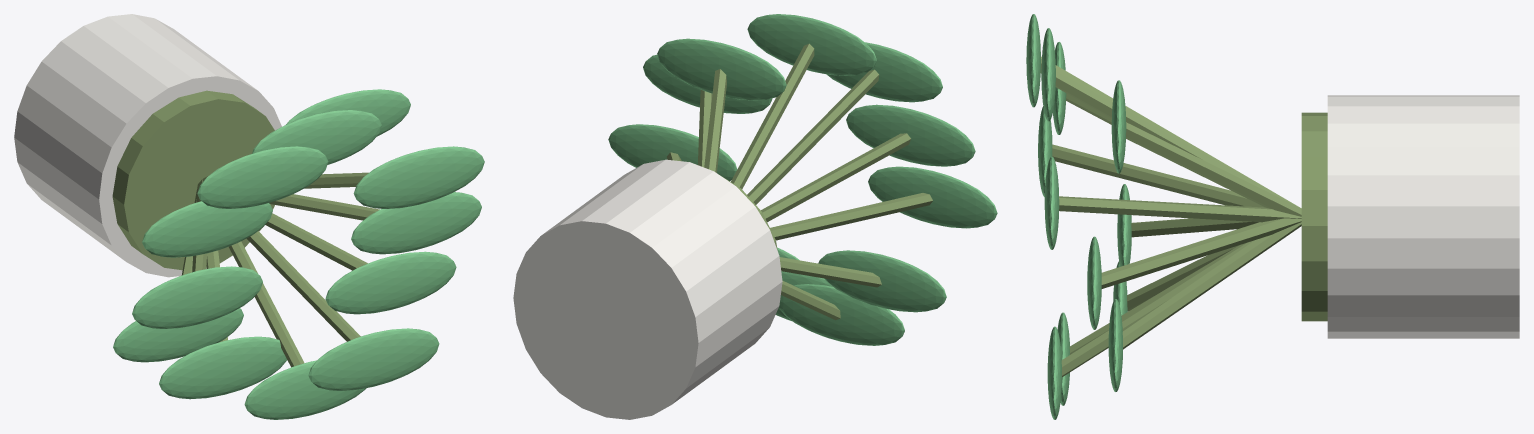
File: PLANT_MEDIUM_001.glb
3 views of the same model, side by side, from view 1: azimuth 30°, elevation 25°; view 2: azimuth 150°, elevation 25°; view 3: azimuth 270°, elevation 25° (orthographic). The views are drawn at different scales.
Parts seen in each view (by area): view 1: pot_000, soil_001, leaf_011, leaf_005, leaf_015, leaf_023, leaf_025, leaf_019, leaf_003, leaf_013, leaf_009, leaf_021 (+7 smaller); view 2: pot_000, leaf_007, leaf_009, leaf_013, leaf_015, leaf_017, leaf_019, leaf_003, leaf_011, stem_010, stem_012, stem_014 (+7 smaller); view 3: pot_000, soil_001, stem_004, stem_014, stem_002, stem_024, stem_006, stem_008, stem_022, stem_016, stem_018, leaf_009 (+12 smaller).
Boxes of the visible parts, x1,y1,x2,y2 form: pot_000: [14, 14, 281, 277]; soil_001: [112, 90, 274, 270]; leaf_011: [197, 146, 328, 208]; leaf_005: [353, 146, 484, 208]; leaf_015: [132, 266, 262, 328]; leaf_023: [308, 328, 439, 390]; leaf_025: [325, 251, 456, 314]; leaf_019: [159, 336, 286, 399]; leaf_003: [351, 192, 481, 254]; leaf_013: [142, 201, 272, 257]; leaf_009: [252, 110, 381, 164]; leaf_021: [244, 360, 366, 419]; pot_000: [513, 159, 782, 419]; leaf_007: [657, 38, 786, 100]; leaf_009: [747, 14, 876, 75]; leaf_013: [846, 104, 975, 166]; leaf_015: [868, 166, 997, 228]; leaf_017: [818, 250, 946, 312]; leaf_019: [778, 284, 904, 345]; leaf_003: [608, 124, 737, 181]; leaf_011: [826, 42, 942, 102]; stem_010: [747, 69, 879, 204]; stem_012: [761, 133, 910, 222]; stem_014: [770, 193, 932, 240]; pot_000: [1327, 95, 1519, 338]; soil_001: [1301, 112, 1327, 321]; stem_004: [1059, 196, 1301, 222]; stem_014: [1052, 144, 1264, 207]; stem_002: [1101, 218, 1301, 288]; stem_024: [1122, 222, 1301, 349]; stem_006: [1126, 122, 1301, 216]; stem_008: [1055, 70, 1299, 207]; stem_022: [1061, 240, 1254, 377]; stem_016: [1131, 218, 1259, 237]; stem_018: [1127, 245, 1239, 311]; leaf_009: [1041, 28, 1055, 121].
Size of the model in its own units: 0.556 by 0.437 by 0.5658.
